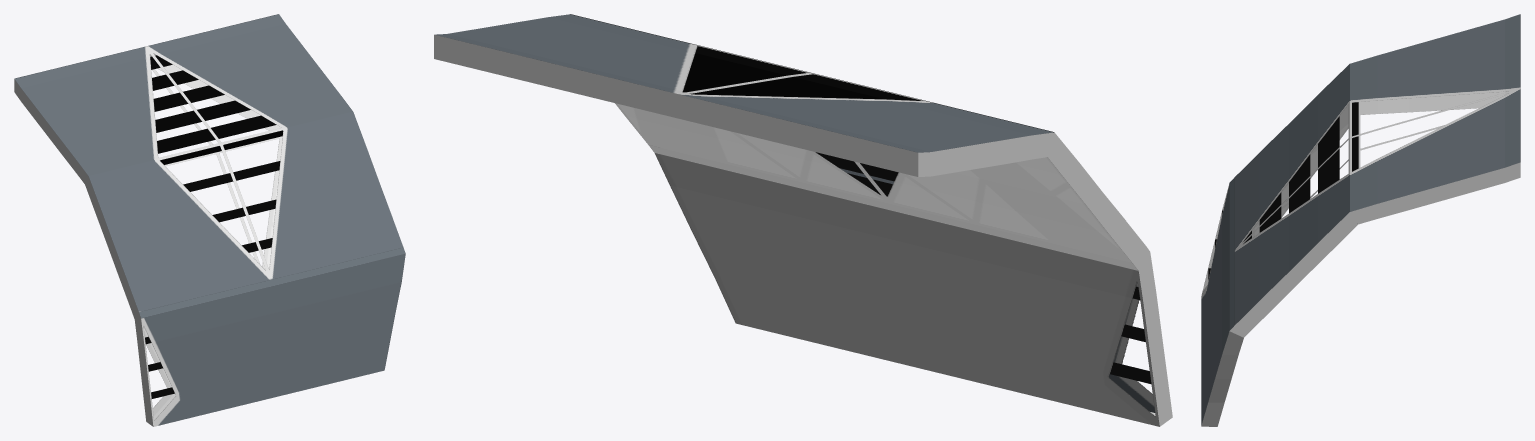
Rendered from dc_metro_roof_j14.obj.
3 renders of one model, left to right at view 1: azimuth 30°, elevation 25°; view 2: azimuth 150°, elevation 25°; view 3: azimuth 270°, elevation 25°, orthographic. The views are drawn at different scales.
Visible parts, largest first — view 1: cube; view 2: cube; view 3: cube.
Boxes of the visible parts, box(x1,y1,x2,y2) form: cube: box(14, 14, 405, 426); cube: box(434, 14, 1172, 426); cube: box(1201, 14, 1520, 426).
Size of the model in its own units: 11 by 9.79 by 10.02.
3 materials, 3 textured.
